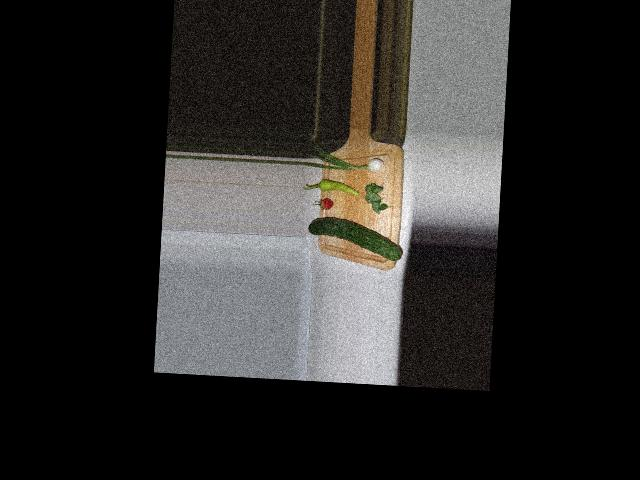cucumber: (307, 216, 403, 261)
